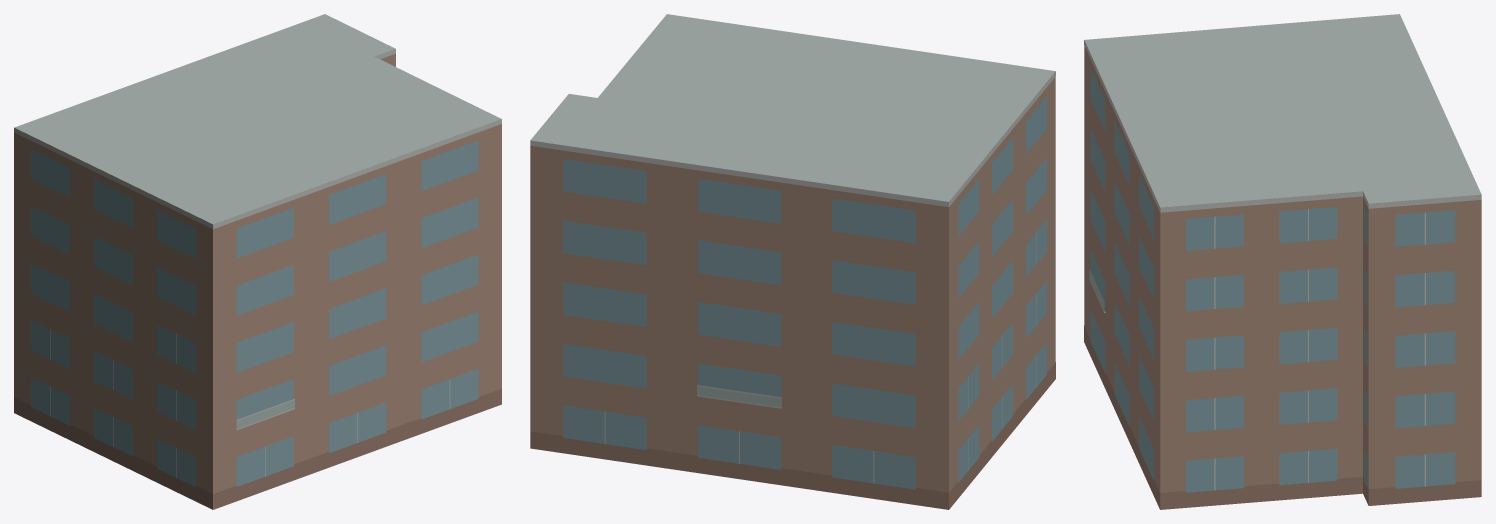
File: survey-upis-32718779.glb
3 renders of one model, left to right at view 1: azimuth 30°, elevation 25°; view 2: azimuth 150°, elevation 25°; view 3: azimuth 270°, elevation 25°, orthographic. The views are drawn at different scales.
Visible parts, largest first — view 1: survey-upis-32718779.tmp; view 2: survey-upis-32718779.tmp; view 3: survey-upis-32718779.tmp.
Part boxes in pixels (x1=…): survey-upis-32718779.tmp: x1=14, y1=14, x2=501, y2=509; survey-upis-32718779.tmp: x1=530, y1=14, x2=1055, y2=509; survey-upis-32718779.tmp: x1=1084, y1=14, x2=1481, y2=509.
Size of the model in its own units: 19.79 by 14.4 by 17.17.
